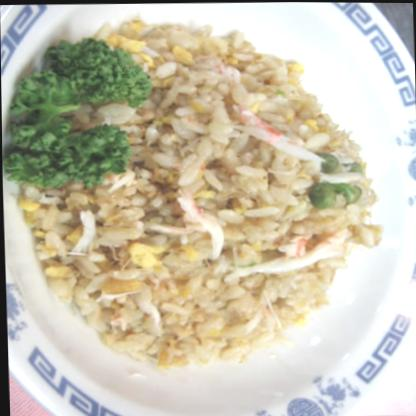fried rice: (43, 28, 371, 362)
